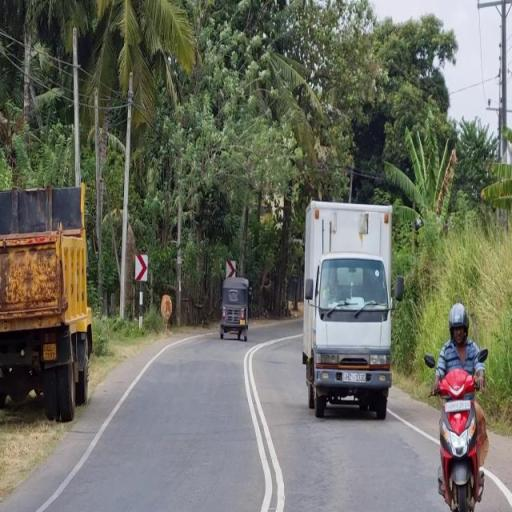double_white_line: (245, 341, 293, 511), (482, 466, 510, 504)
